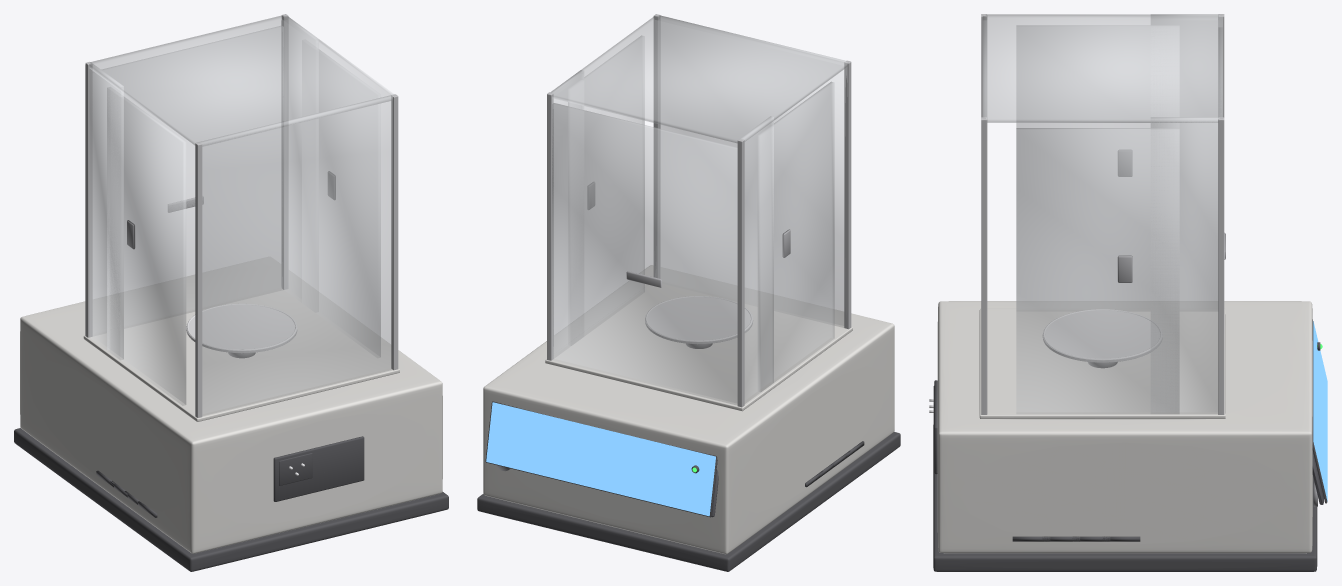
Rendered from analytical_balance.glb.
The picture shows the model from 3 angles, left to right: view 1: azimuth 30°, elevation 25°; view 2: azimuth 150°, elevation 25°; view 3: azimuth 270°, elevation 25°; orthographic projection. The views are drawn at different scales.
Parts seen in each view (by area): view 1: Body_Main, Shield_Back, Door_Top, Shield_Top, Door_Left, Shield_Floor, Door_Right, Shield_LeftFixed, BaseRim, Shield_RightFixed, WeighingPan, Rear_PortBay (+5 smaller); view 2: Door_Top, Body_Main, Shield_Back, Shield_Top, Door_Left, Shield_Floor, Door_Right, LCD_Screen, Shield_LeftFixed, BaseRim, Shield_RightFixed, WeighingPan (+5 smaller); view 3: Body_Main, Door_Right, Door_Left, Shield_Top, Shield_Floor, Shield_RightFixed, Shield_LeftFixed, BaseRim, WeighingPan, ShieldFrame_1_1, ShieldFrame_1_-1, LCD_Screen (+2 smaller).
Part boxes in pixels (x1,y1,x2,y2): Body_Main: (20, 257, 442, 553); Shield_Back: (197, 94, 394, 415); Door_Top: (93, 26, 283, 334); Shield_Top: (89, 15, 394, 146); Door_Left: (107, 87, 186, 405); Shield_Floor: (83, 288, 399, 421); Door_Right: (319, 50, 380, 356); Shield_LeftFixed: (89, 62, 123, 359); BaseRim: (14, 428, 448, 571); Shield_RightFixed: (282, 15, 318, 299); WeighingPan: (186, 304, 297, 353); Rear_PortBay: (273, 436, 364, 501); Door_Top: (552, 103, 737, 404); Body_Main: (483, 265, 894, 554); Shield_Back: (655, 15, 847, 328); Shield_Top: (551, 15, 847, 142); Door_Left: (758, 81, 834, 391); Shield_Floor: (545, 281, 852, 411); Door_Right: (568, 36, 644, 332); LCD_Screen: (486, 402, 715, 516); Shield_LeftFixed: (739, 116, 773, 403); BaseRim: (477, 432, 900, 571); Shield_RightFixed: (551, 70, 583, 358); WeighingPan: (645, 297, 752, 344); Body_Main: (937, 301, 1312, 553); Door_Right: (1016, 128, 1179, 413); Door_Left: (1016, 25, 1150, 309); Shield_Top: (983, 14, 1222, 122); Shield_Floor: (979, 308, 1225, 419); Shield_RightFixed: (1150, 117, 1219, 413); Shield_LeftFixed: (1151, 14, 1222, 309); BaseRim: (933, 425, 1317, 571); WeighingPan: (1042, 310, 1162, 362); ShieldFrame_1_1: (1218, 117, 1224, 414); ShieldFrame_1_-1: (981, 117, 987, 414); LCD_Screen: (1313, 321, 1327, 501).
Bounding box in the file's own units: 0.216 × 0.322 × 0.2653.
